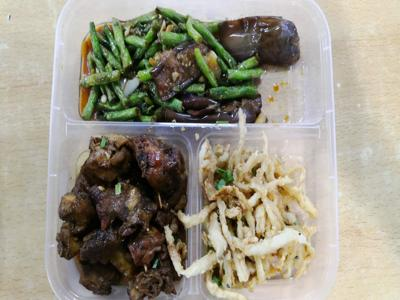csh: (86, 21, 216, 119)
j3: (203, 145, 310, 288)
r6: (57, 135, 175, 292)
